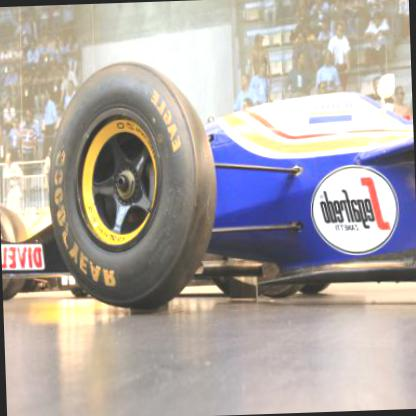car: (0, 50, 415, 317)
